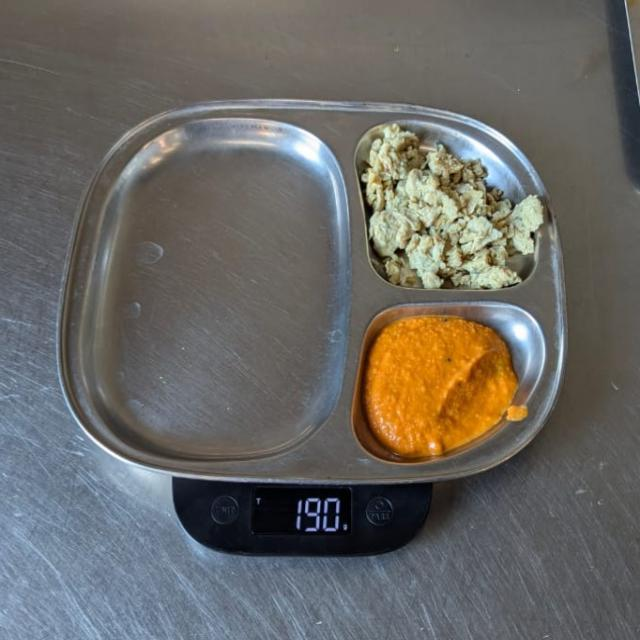Chutney: (361, 311, 521, 461)
Egg Bhurji: (359, 120, 546, 303)
